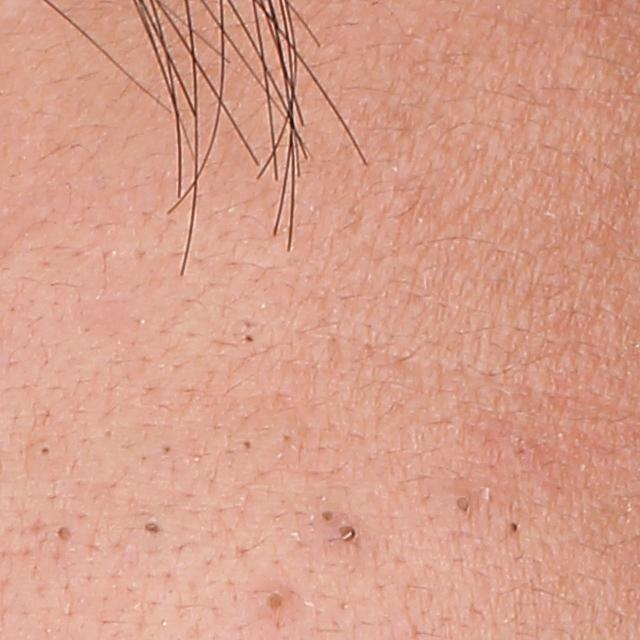comedo: (339, 523, 358, 544), (145, 520, 162, 540), (508, 518, 525, 538), (241, 437, 256, 452)
